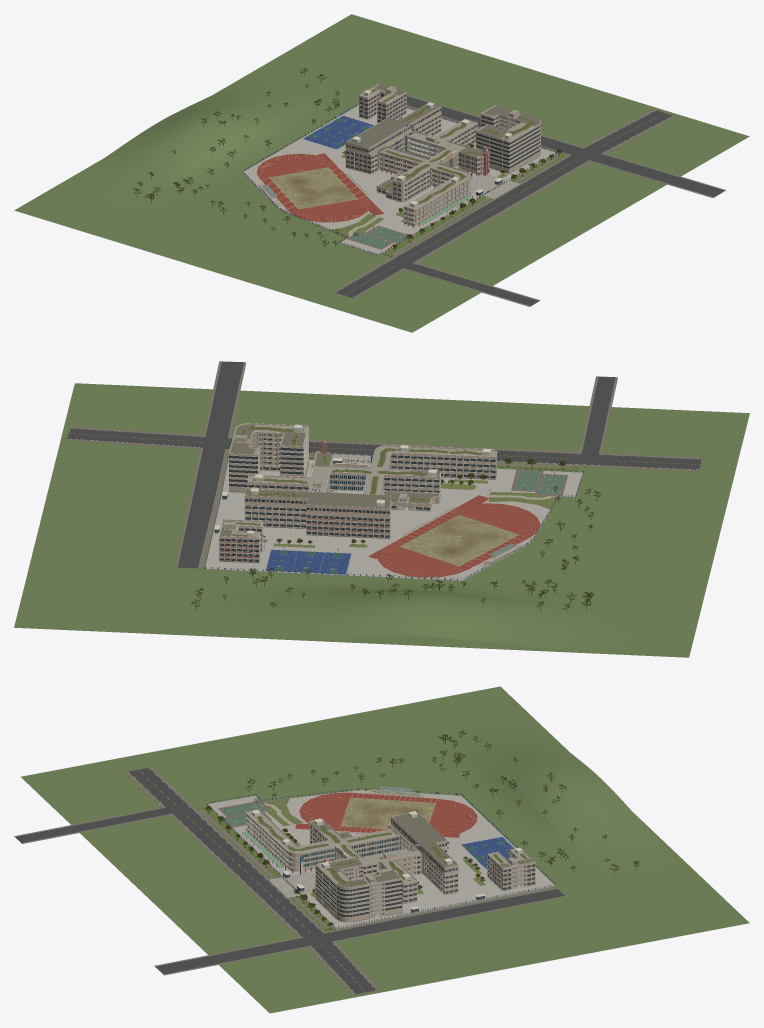
The model's file is campus.glb.
3 renders of one model, top to bottom at view 1: azimuth 30°, elevation 25°; view 2: azimuth 150°, elevation 25°; view 3: azimuth 270°, elevation 25°, orthographic. The views are drawn at different scales.
Visible parts, largest first — view 1: campus; view 2: campus; view 3: campus.
Part boxes in pixels (x1,y1,x2,y2): campus: [14, 14, 749, 332]; campus: [14, 361, 749, 657]; campus: [14, 686, 749, 1013].
Size of the model in its own units: 574 by 30.99 by 546.
138 materials, 76 textured.
